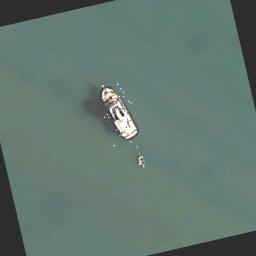boat: (95, 78, 141, 146), (136, 152, 146, 168)
